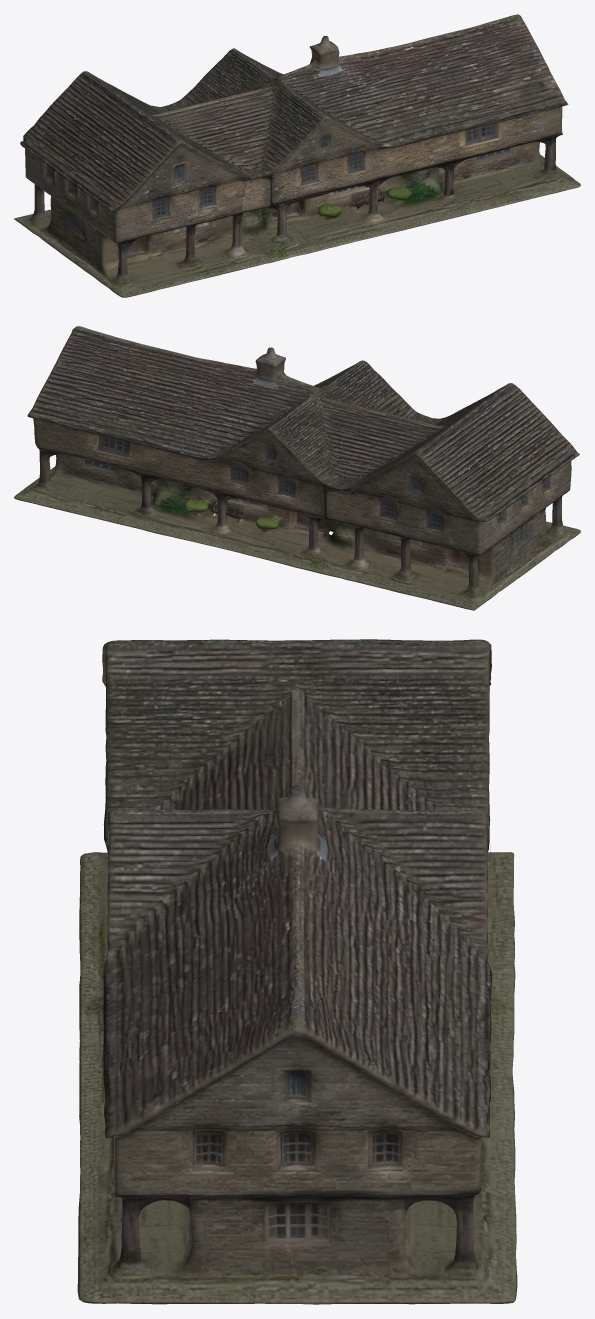
File: cottage-ville.glb
3 views of the same model, one above another, from view 1: azimuth 30°, elevation 25°; view 2: azimuth 150°, elevation 25°; view 3: azimuth 270°, elevation 25° (orthographic). The views are drawn at different scales.
Parts seen in each view (by area): view 1: tripo_node_2e2d164f, fenetre.001; view 2: tripo_node_2e2d164f, fenetre.001; view 3: tripo_node_2e2d164f.
Boxes of the visible parts, x1=… form: tripo_node_2e2d164f: x1=14, y1=14, x2=580, y2=297; fenetre.001: x1=46, y1=122, x2=510, y2=238; tripo_node_2e2d164f: x1=14, y1=326, x2=580, y2=610; fenetre.001: x1=85, y1=435, x2=550, y2=550; tripo_node_2e2d164f: x1=77, y1=639, x2=517, y2=1304.
Size of the model in its own units: 98.31 by 32.51 by 40.21.
Materials: 4 (1 with a texture image).
